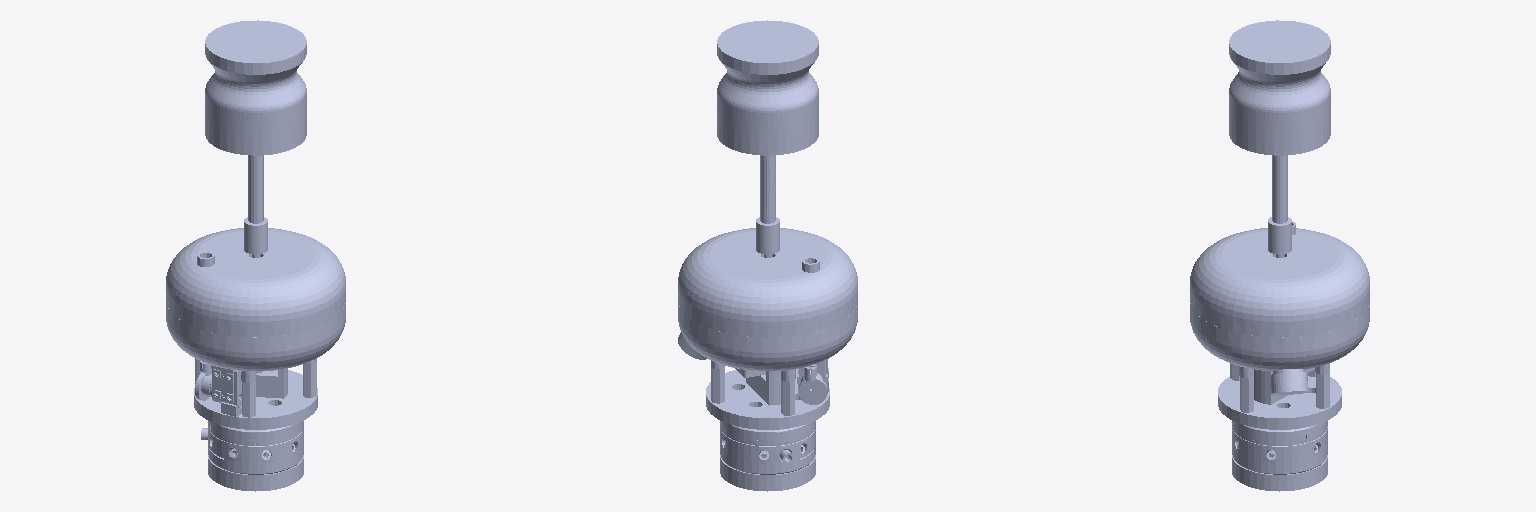
The robot description file, URDF, robot "end_effector":
<?xml version="1.0" encoding="utf-8"?>
<!-- This URDF was automatically created by SolidWorks to URDF Exporter! Originally created by [author] ([email redacted]) 
     Commit Version: 1.5.1-0-g916b5db  Build Version: 1.5.7152.31018
     For more information, please see http://wiki.ros.org/sw_urdf_exporter -->
<robot
  name="end_effector">
  <link
    name="base_link">
    <inertial>
      <origin
        xyz="-2.7756E-17 6.2055E-05 0.0042602"
        rpy="0 0 0" />
      <mass
        value="0.055591" />
      <inertia
        ixx="2.0351E-05"
        ixy="-9.351E-23"
        ixz="4.528E-21"
        iyy="2.042E-05"
        iyz="-1.9241E-08"
        izz="3.875E-05" />
    </inertial>
    <visual>
      <origin
        xyz="0 0 0"
        rpy="0 0 0" />
      <geometry>
        <mesh
          filename="package://arm_description/meshes/EE_base_link.STL" />
      </geometry>
      <material
        name="">
        <color
          rgba="0.79216 0.81961 0.93333 1" />
      </material>
    </visual>
    <collision>
      <origin
        xyz="0 0 0"
        rpy="0 0 0" />
      <geometry>
        <mesh
          filename="package://arm_description/meshes/EE_base_link.STL" />
      </geometry>
    </collision>
  </link>
  <link
    name="ft300">
    <inertial>
      <origin
        xyz="-0.00020759 -5.7584E-05 -0.015185"
        rpy="0 0 0" />
      <mass
        value="0.089269" />
      <inertia
        ixx="4.3163E-05"
        ixy="4.8654E-07"
        ixz="2.9563E-07"
        iyy="4.3423E-05"
        iyz="4.3929E-07"
        izz="7.4302E-05" />
    </inertial>
    <visual>
      <origin
        xyz="0 0 0"
        rpy="0 0 0" />
      <geometry>
        <mesh
          filename="package://arm_description/meshes/EE_ft300.STL" />
      </geometry>
      <material
        name="">
        <color
          rgba="0.79216 0.81961 0.93333 1" />
      </material>
    </visual>
    <collision>
      <origin
        xyz="0 0 0"
        rpy="0 0 0" />
      <geometry>
        <mesh
          filename="package://arm_description/meshes/EE_ft300.STL" />
      </geometry>
    </collision>
  </link>
  <joint
    name="joint1"
    type="fixed">
    <origin
      xyz="0 0 0.0545"
      rpy="0 0 -1.5708" />
    <parent
      link="base_link" />
    <child
      link="ft300" />
    <axis
      xyz="0 0 0" />
  </joint>
  <link
    name="brush">
    <inertial>
      <origin
        xyz="0.00036726 -0.00078217 -0.14971"
        rpy="0 0 0" />
      <mass
        value="0.79792" />
      <inertia
        ixx="0.00078208"
        ixy="5.9791E-07"
        ixz="1.6277E-07"
        iyy="0.00077627"
        iyz="6.9702E-07"
        izz="0.00096011" />
    </inertial>
    <visual>
      <origin
        xyz="0 0 0"
        rpy="0 0 0" />
      <geometry>
        <mesh
          filename="package://arm_description/meshes/EE_brush.STL" />
      </geometry>
      <material
        name="">
        <color
          rgba="0.79216 0.81961 0.93333 1" />
      </material>
    </visual>
    <collision>
      <origin
        xyz="0 0 0"
        rpy="0 0 0" />
      <geometry>
        <mesh
          filename="package://arm_description/meshes/EE_brush.STL" />
      </geometry>
    </collision>
  </link>
  <joint
    name="joint2"
    type="fixed">
    <origin
      xyz="0 0 0.31372"
      rpy="0 0 0" />
    <parent
      link="ft300" />
    <child
      link="brush" />
    <axis
      xyz="0 0 0" />
  </joint>
</robot>

--- What the picture shows (computed from the rendered views, not written in the file) ---
The picture shows the robot from 3 angles, left to right: view 1: azimuth 30°, elevation 25°; view 2: azimuth 150°, elevation 25°; view 3: azimuth 270°, elevation 25°; orthographic projection.
Robot: end_effector — 3 links, 2 joints (2 fixed); root link base_link; default pose: all joints at 0.
Visible links, largest first — view 1: brush, ft300, base_link; view 2: brush, ft300, base_link; view 3: brush, ft300, base_link.
Link boxes in pixels (x1,y1,x2,y2): brush: (166, 20, 345, 429); ft300: (201, 421, 303, 474); base_link: (208, 455, 303, 491); brush: (678, 20, 857, 429); ft300: (720, 421, 815, 474); base_link: (720, 455, 815, 491); brush: (1190, 20, 1369, 429); ft300: (1232, 421, 1327, 474); base_link: (1232, 455, 1327, 491).
Size in the robot's own frame: 0.1461 by 0.142 by 0.3722 metres.
3 mesh visuals loaded from 3 distinct referenced files (3 binary STL).